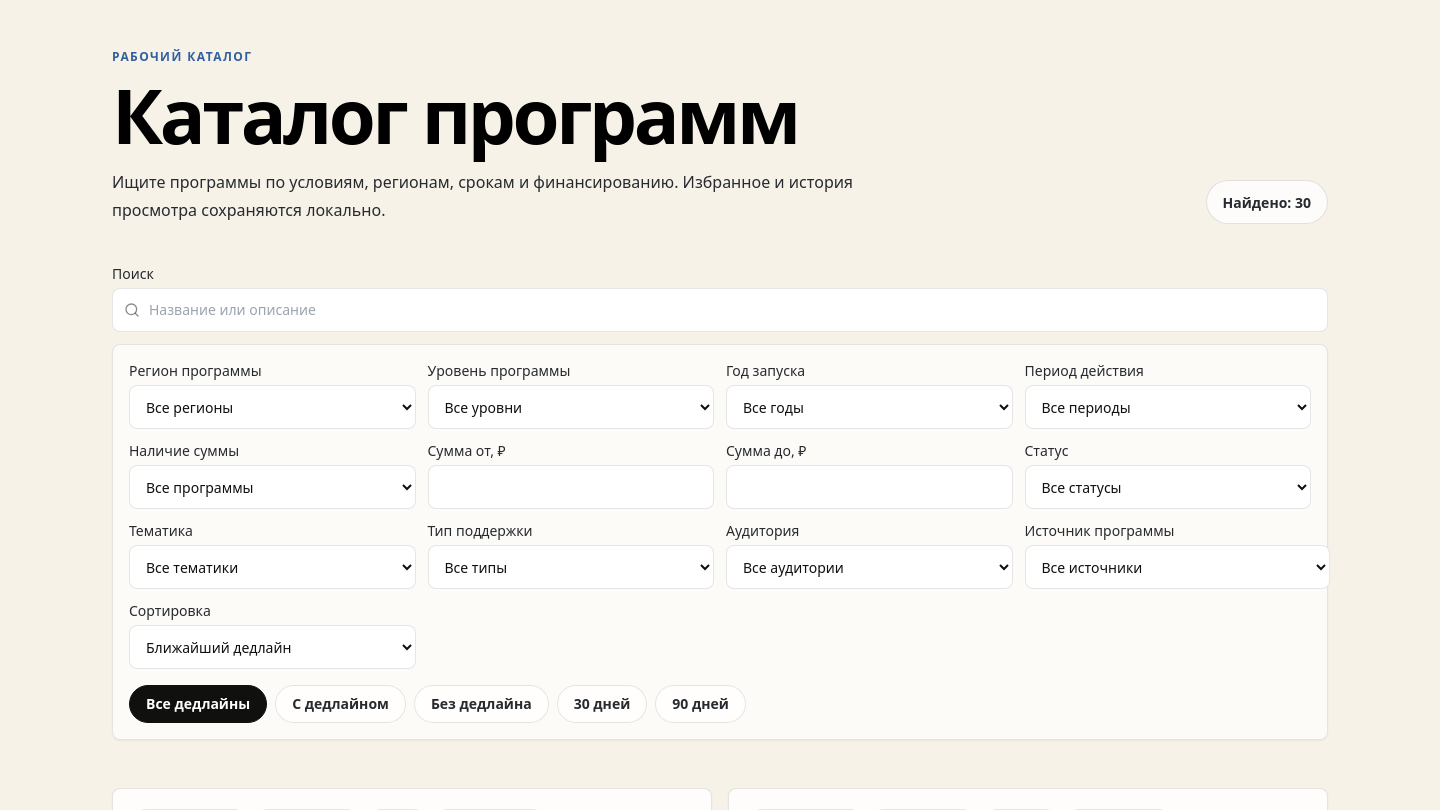
Test: ProgramsTab › offers relevance only for a non-empty query and restores deadline sorting when cleared
Expected: the option "Релевантность" is not shown
Type "ИИ" into the field labelled "Поиск" at (720, 310), box [112,288,1328,332]
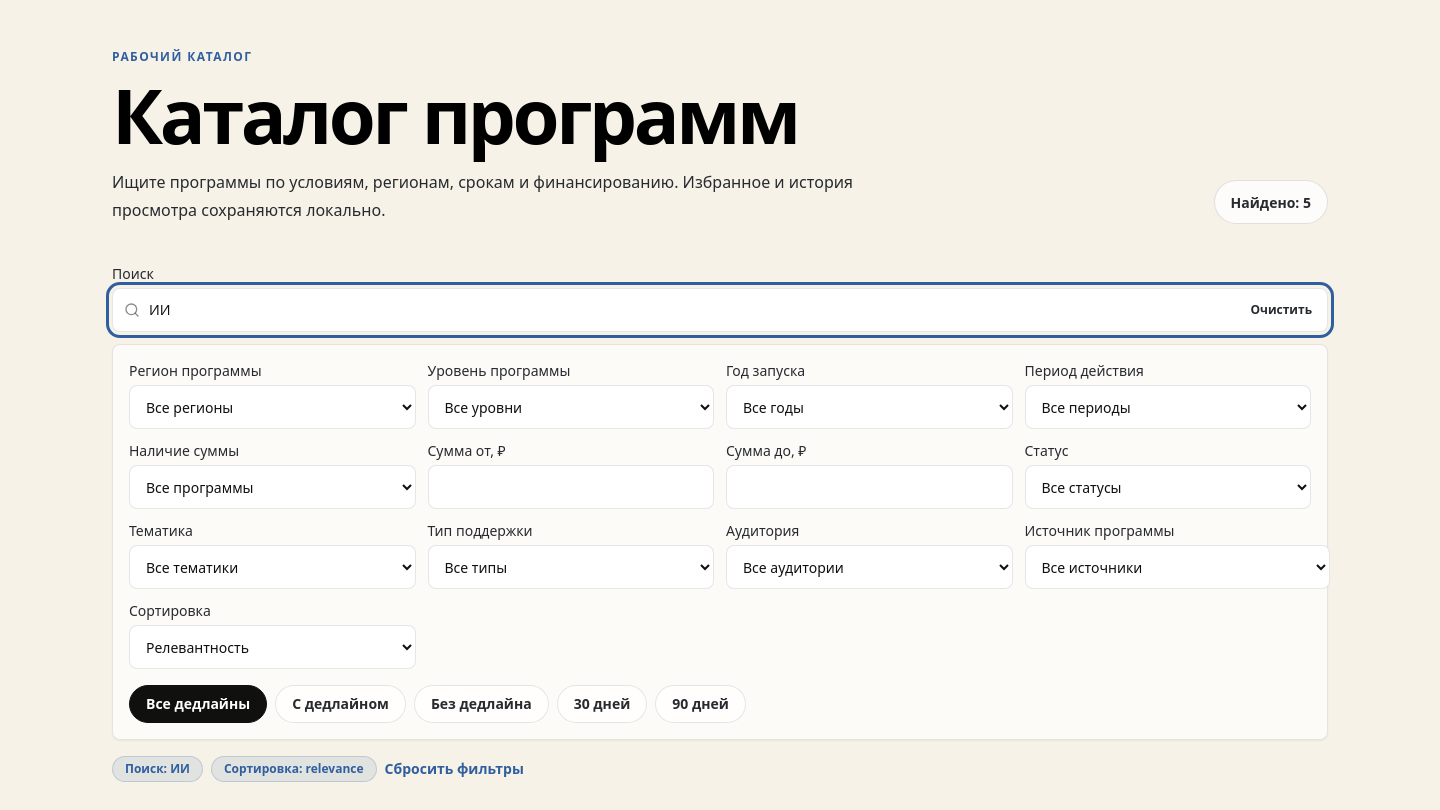
Expected: the dropdown labelled "Сортировка" shows "Релевантность", [129,626,416,670]
Click the button with aria-label "Очистить поиск" at (1281, 310), box [1242,298,1320,322]
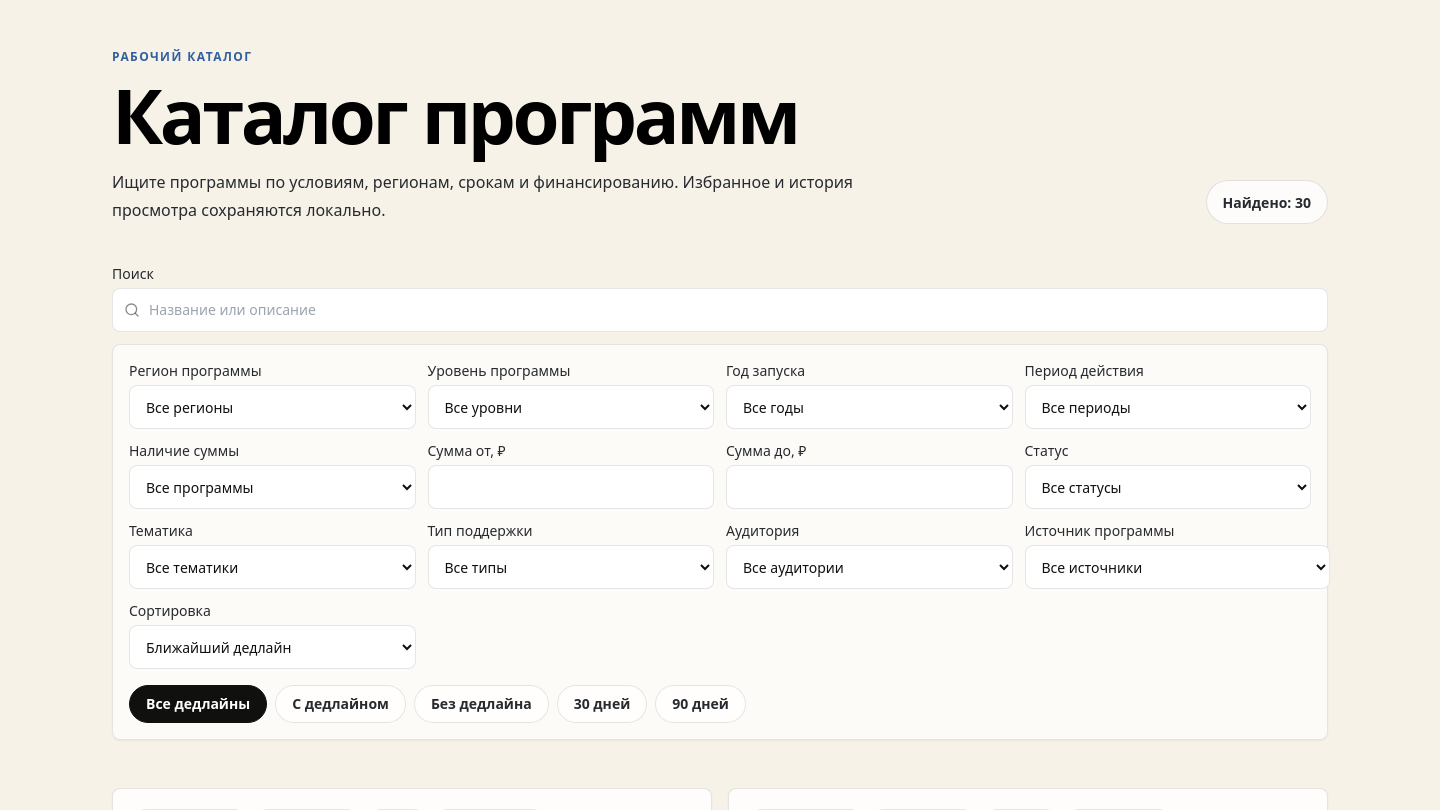
Expected: the dropdown labelled "Сортировка" shows "Ближайший дедлайн", [129,626,416,670]
